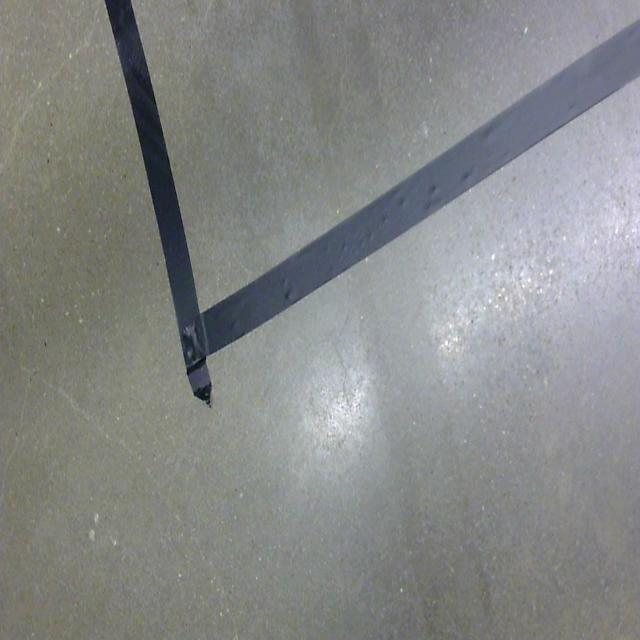tape: (94, 0, 640, 433)
